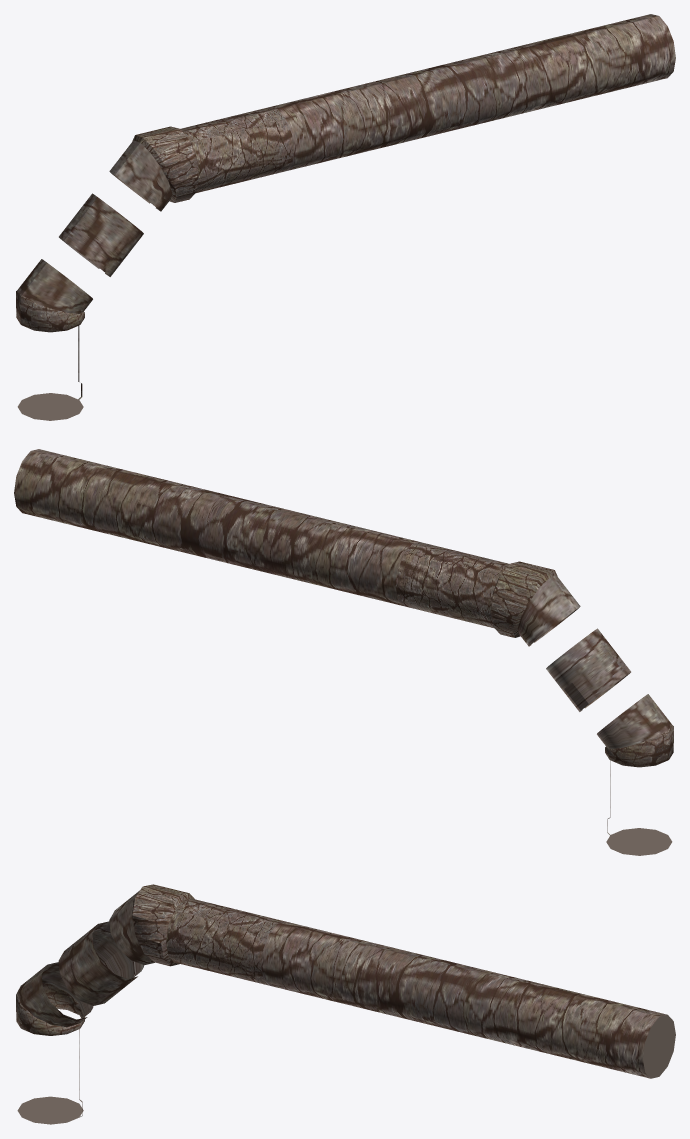
3 renders of one model, top to bottom at view 1: azimuth 30°, elevation 25°; view 2: azimuth 150°, elevation 25°; view 3: azimuth 330°, elevation 25°, orthographic.
Parts seen in each view (by area): view 1: Tube_L_B; view 2: Tube_L_B; view 3: Tube_L_B.
Boxes of the visible parts, bbox=[...] form: Tube_L_B: bbox=[16, 14, 675, 420]; Tube_L_B: bbox=[14, 449, 673, 855]; Tube_L_B: bbox=[16, 884, 675, 1124].
Bounding box in the file's own units: 6.31 × 0.6452 × 2.32.
